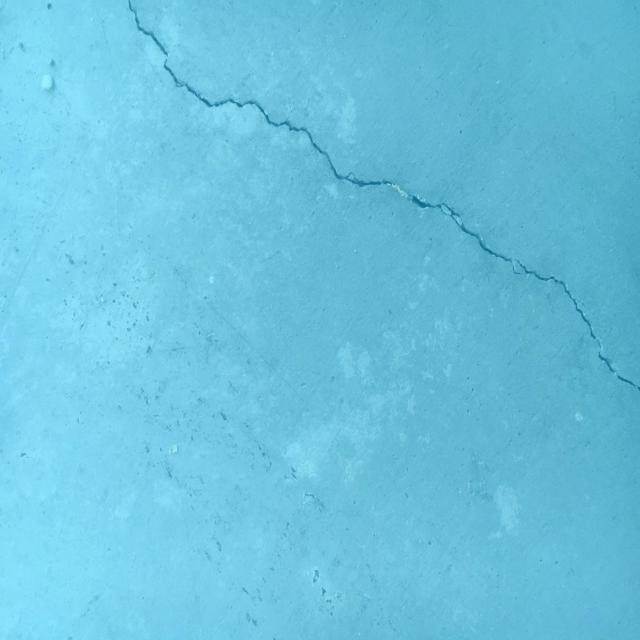crack: (127, 0, 640, 393)
